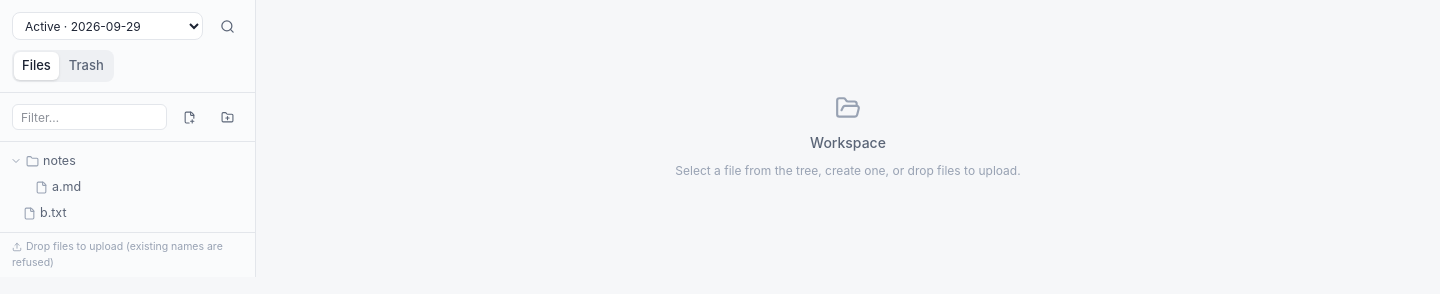
it: WorkspacePage reading › renders the manifest tree and opens a file
This screenshot has width=1440, height=294.
Click the button "a.md": click(128, 187) [6,174,249,200]
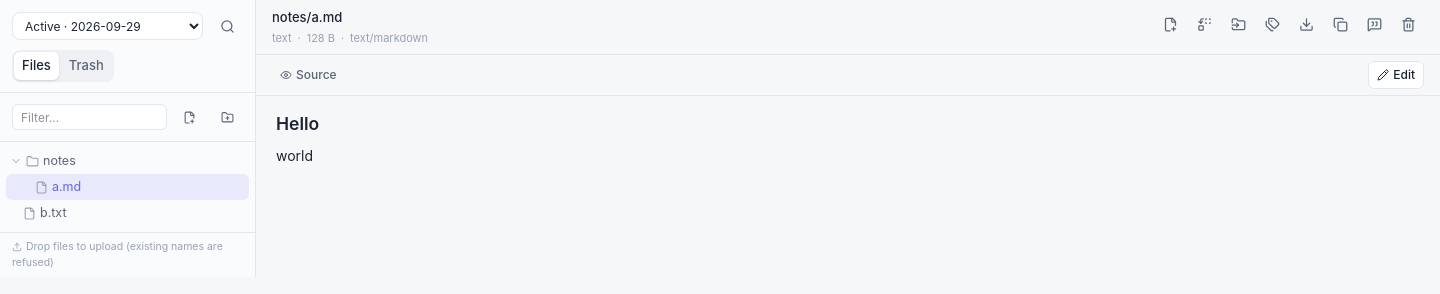
Result: the heading "Hello" is shown at [276,113,319,134]
